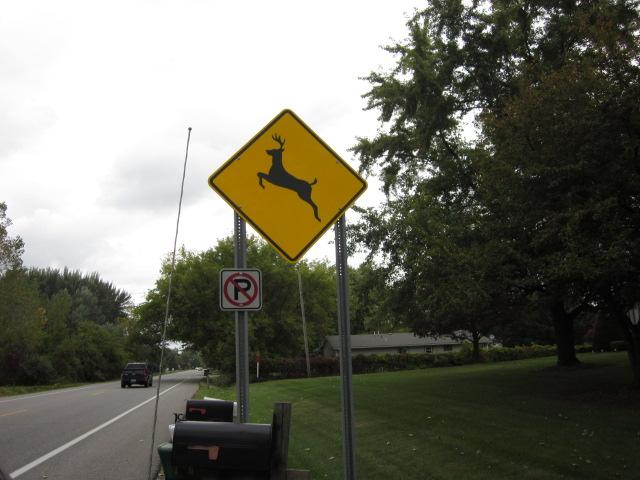regulatory: (218, 269, 266, 312)
warning: (207, 107, 367, 264)
